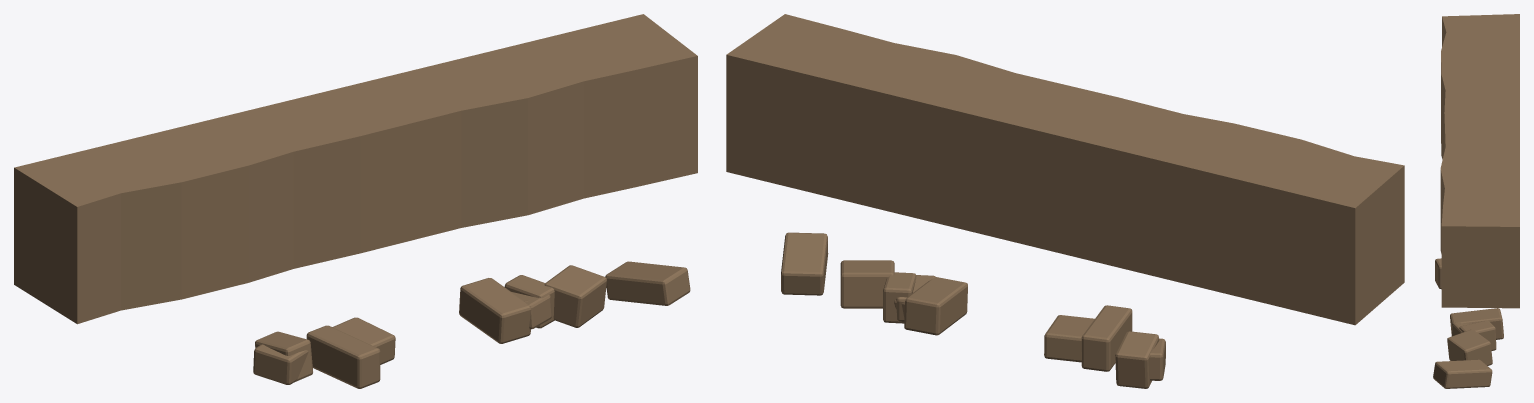
The model's file is HokageBridge_HokageRockDark.fbx.
3 renders of one model, left to right at view 1: azimuth 30°, elevation 25°; view 2: azimuth 150°, elevation 25°; view 3: azimuth 270°, elevation 25°, orthographic. The views are drawn at different scales.
Visible parts, largest first — view 1: Bridge1.001; view 2: Bridge1.001; view 3: Bridge1.001.
Boxes of the visible parts, x1,y1,x2,y2 form: Bridge1.001: [14, 14, 697, 388]; Bridge1.001: [726, 14, 1404, 388]; Bridge1.001: [1433, 14, 1519, 388].
Bounding box in the file's own units: 8800 × 3339 × 1516.
